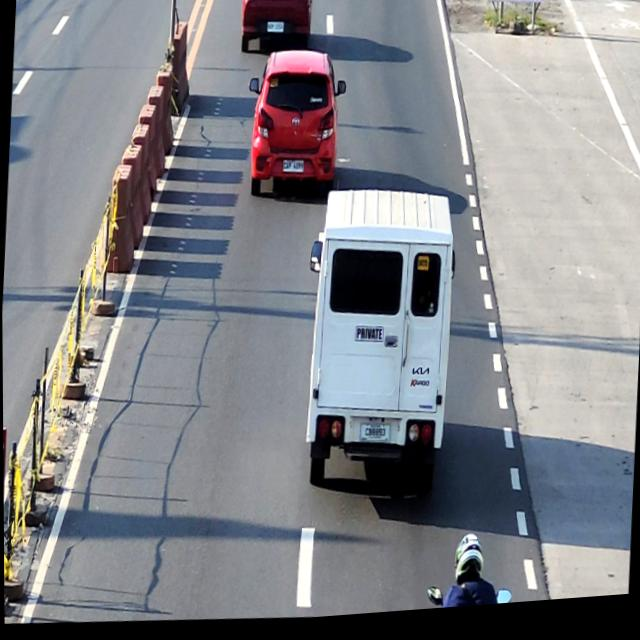Car: (298, 185, 461, 506), (244, 51, 348, 205), (240, 0, 314, 60)
License-Plate: (360, 431, 388, 448), (282, 162, 305, 179), (266, 25, 285, 37)
